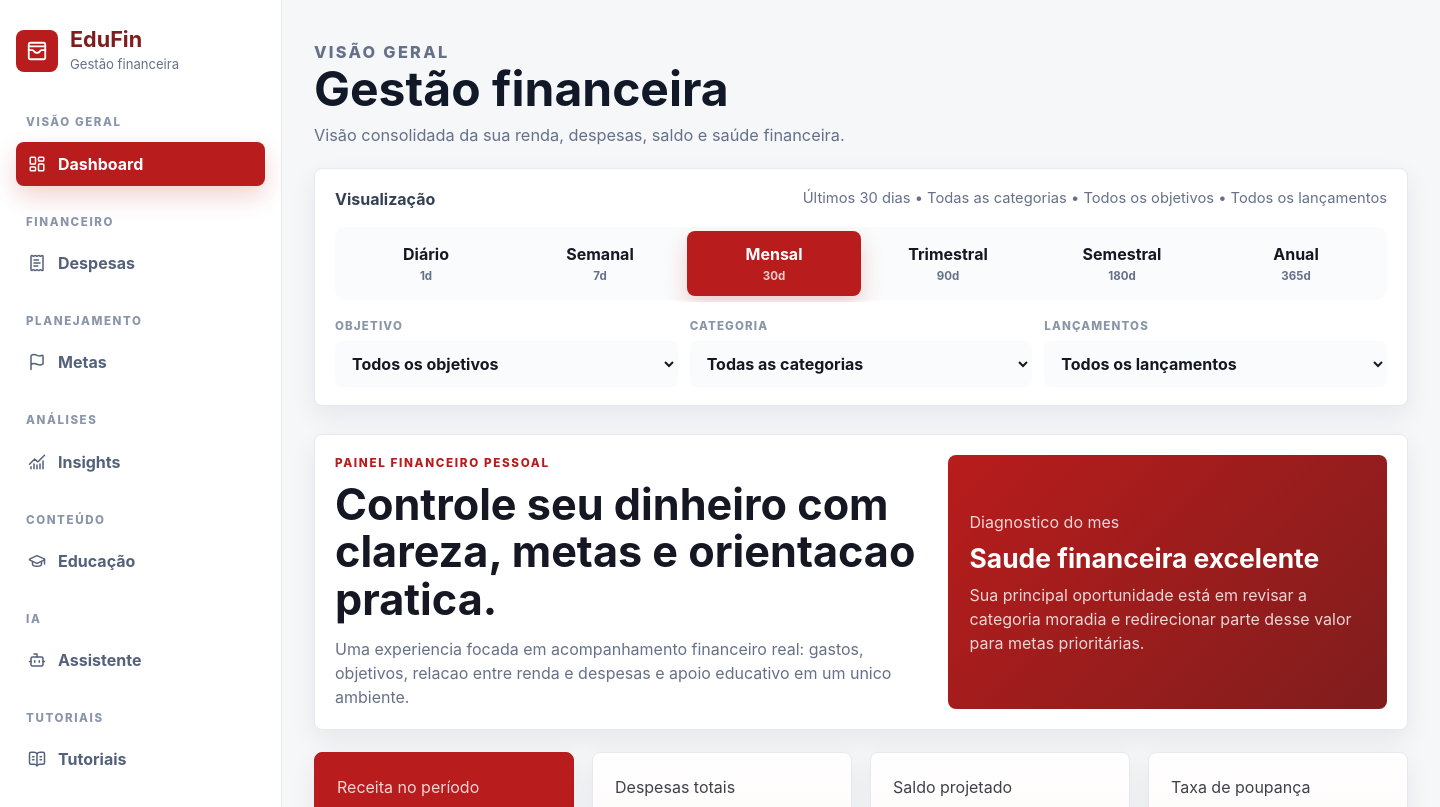
it: App › changes the dashboard visualization by period and filters
Expected: the heading "Gestão financeira" is shown, [314, 60, 729, 118]
Click the button "Semanal 7d" at (600, 263), box [513, 231, 687, 296]
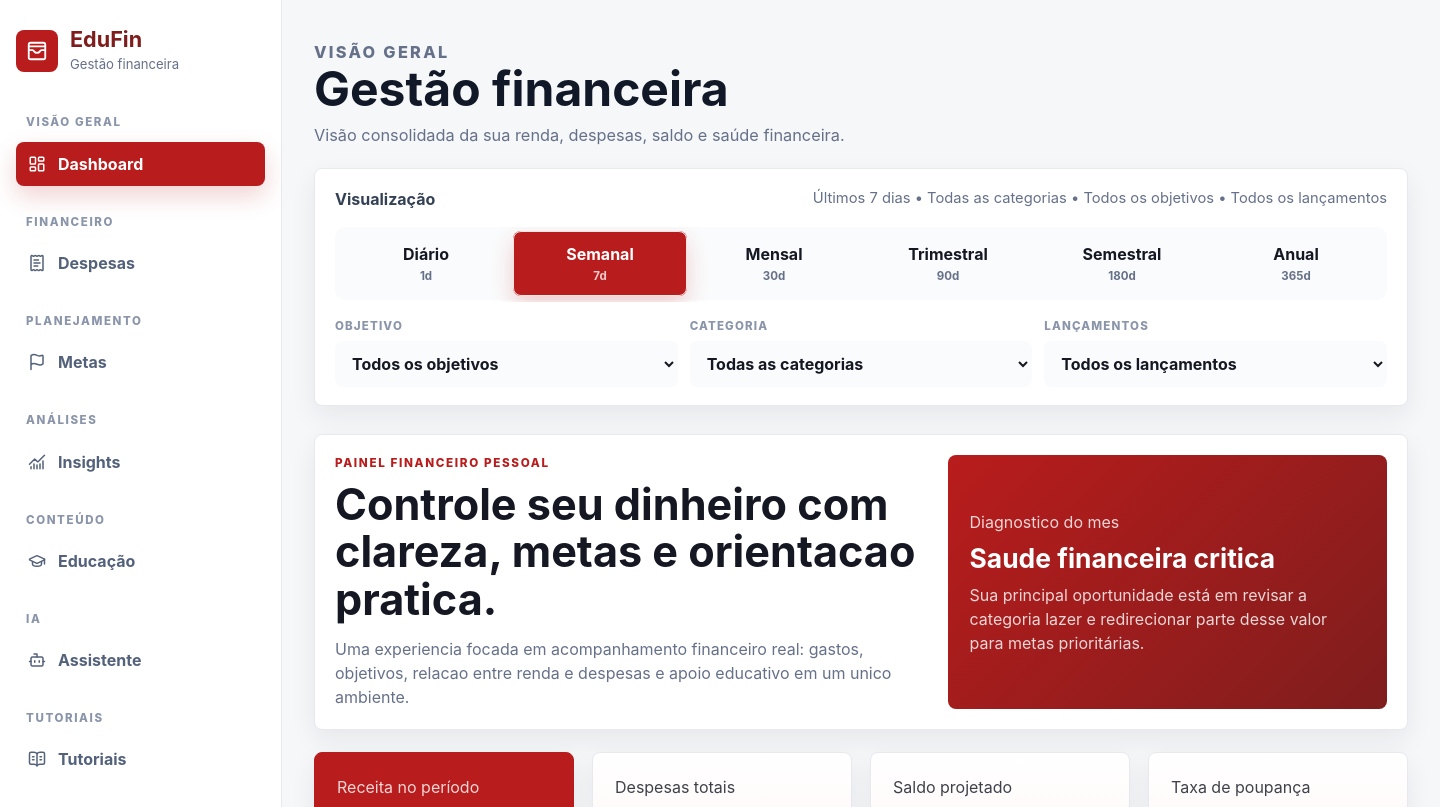
Expected: the text "Últimos 7 dias" is shown, [813, 189, 1387, 207]
Select "Lazer" in the dropdown labelled "Categoria" at (861, 364), box [690, 341, 1032, 387]
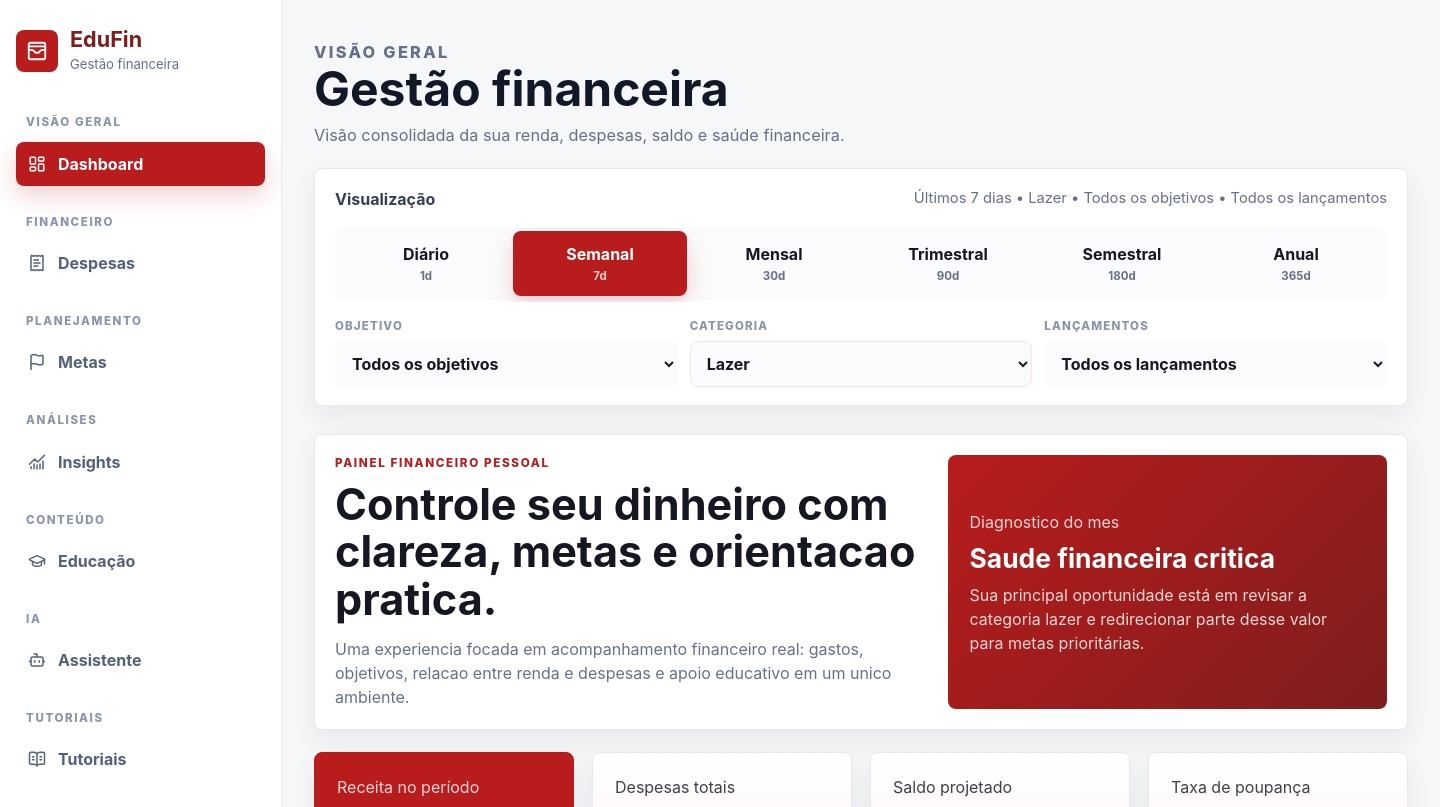
Expected: the text "Lazer" is shown, [914, 189, 1387, 207]
Select "Saídas" in the dropdown labelled "Lançamentos" at (1216, 364), box [1044, 341, 1387, 387]
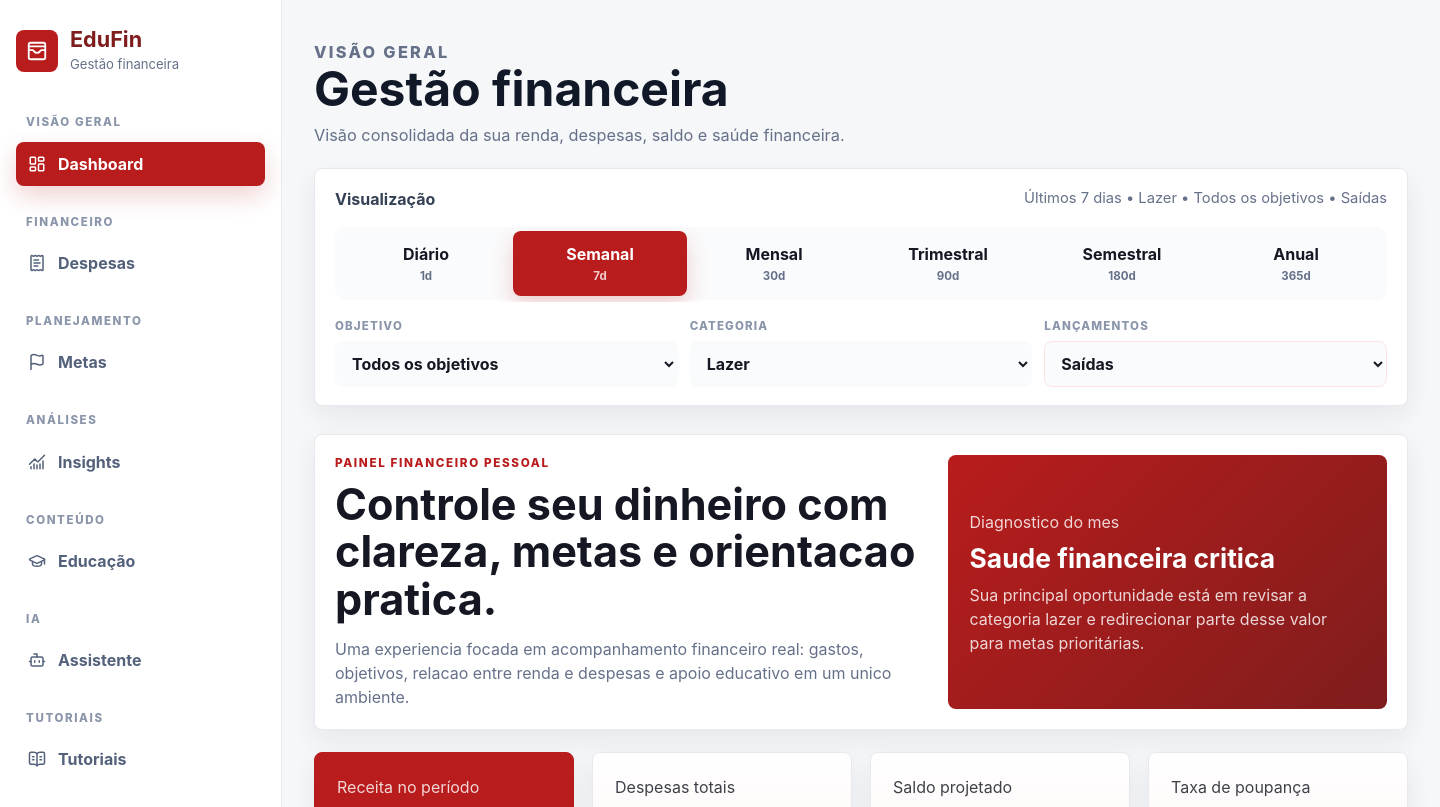
Expected: the text "Últimos 7 dias • Lazer • Todos os objetivos • Saídas" is shown, [1024, 187, 1387, 209]
